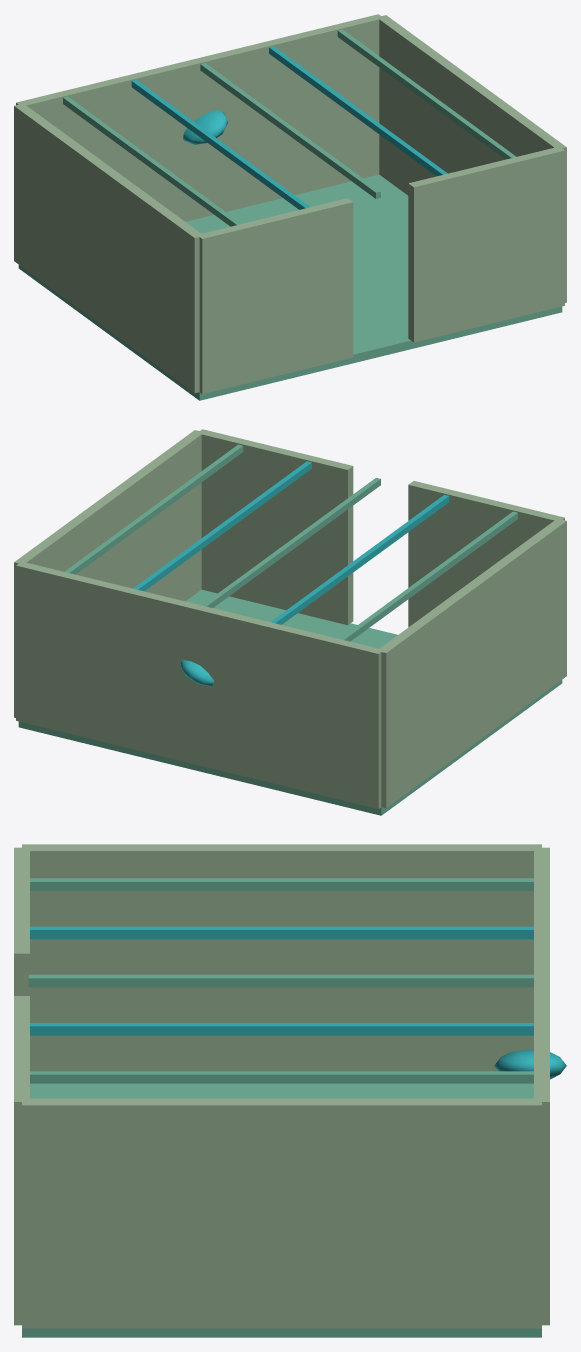
The model's file is grotto_sanctuary.glb.
3 views of the same model, one above another, from view 1: azimuth 30°, elevation 25°; view 2: azimuth 150°, elevation 25°; view 3: azimuth 270°, elevation 25° (orthographic). The views are drawn at different scales.
Parts seen in each view (by area): view 1: wall_north, wall_west, wall_south_right, wall_south_left, wall_east, floor, ceiling_beam_0, ceiling_beam_-1, ceiling_beam_2, ceiling_beam_-2, ceiling_beam_1, purpose_prism_sanctuary; view 2: wall_north, wall_west, wall_south_right, wall_east, wall_south_left, floor, ceiling_beam_-1, ceiling_beam_0, ceiling_beam_2, ceiling_beam_-2, ceiling_beam_1, purpose_prism_sanctuary; view 3: wall_east, wall_west, floor, ceiling_beam_0, ceiling_beam_-1, ceiling_beam_-2, ceiling_beam_1, ceiling_beam_2, wall_north, wall_south_right, wall_south_left, purpose_prism_sanctuary.
Boxes of the visible parts, <box> form: wall_north: <box>16,14,383,221</box>; wall_west: <box>14,103,203,393</box>; wall_south_right: <box>408,146,564,342</box>; wall_south_left: <box>198,198,353,393</box>; wall_east: <box>377,15,566,302</box>; floor: <box>18,174,562,400</box>; ceiling_beam_0: <box>200,63,380,198</box>; ceiling_beam_-1: <box>131,80,310,209</box>; ceiling_beam_2: <box>337,29,516,159</box>; ceiling_beam_-2: <box>63,96,241,226</box>; ceiling_beam_1: <box>269,46,447,176</box>; purpose_prism_sanctuary: <box>183,110,227,144</box>; wall_north: <box>16,561,383,808</box>; wall_west: <box>378,518,566,808</box>; wall_south_right: <box>198,429,353,625</box>; wall_east: <box>14,430,203,717</box>; wall_south_left: <box>408,481,564,627</box>; floor: <box>18,589,562,815</box>; ceiling_beam_-1: <box>270,495,449,624</box>; ceiling_beam_0: <box>202,477,380,607</box>; ceiling_beam_2: <box>64,444,243,574</box>; ceiling_beam_-2: <box>339,511,517,641</box>; ceiling_beam_1: <box>133,461,311,591</box>; purpose_prism_sanctuary: <box>180,660,214,686</box>; wall_east: <box>22,1098,541,1328</box>; wall_west: <box>22,844,541,1071</box>; floor: <box>22,1083,541,1337</box>; ceiling_beam_0: <box>28,974,533,987</box>; ceiling_beam_-1: <box>30,926,533,939</box>; ceiling_beam_-2: <box>30,878,533,890</box>; ceiling_beam_1: <box>30,1023,533,1035</box>; ceiling_beam_2: <box>30,1071,533,1083</box>; wall_north: <box>534,847,549,1325</box>; wall_south_right: <box>14,996,29,1325</box>; wall_south_left: <box>14,847,29,995</box>; purpose_prism_sanctuary: <box>494,1049,566,1079</box>.
Size of what is drawn, in the model's own units: 13.55 by 5.7 by 12.13.
